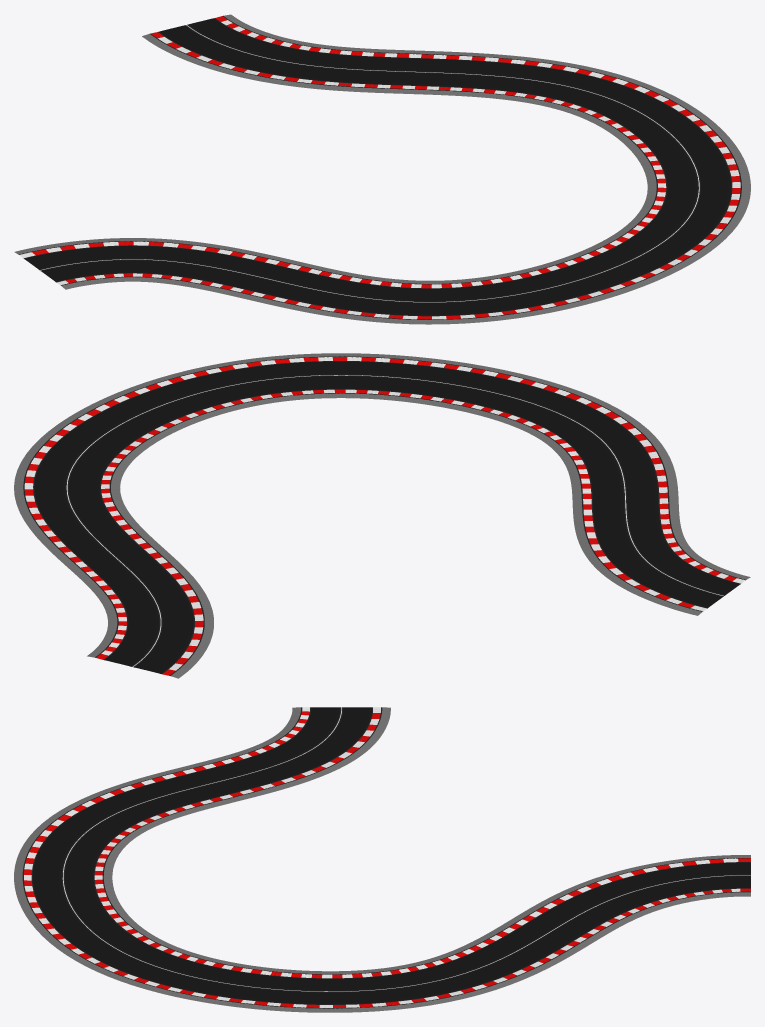
Rendered from S0.Group.202.export.A1L1H0cornRsoft.glb.
3 views of the same model, one above another, from view 1: azimuth 30°, elevation 25°; view 2: azimuth 150°, elevation 25°; view 3: azimuth 270°, elevation 25° (orthographic). The views are drawn at different scales.
Visible parts, largest first — view 1: Grid; view 2: Grid; view 3: Grid.
Part boxes in pixels (x1=…): Grid: x1=14, y1=14, x2=750, y2=324; Grid: x1=14, y1=353, x2=750, y2=678; Grid: x1=14, y1=707, x2=750, y2=1012.
Size of the model in its own units: 184 by 0.4055 by 187.
